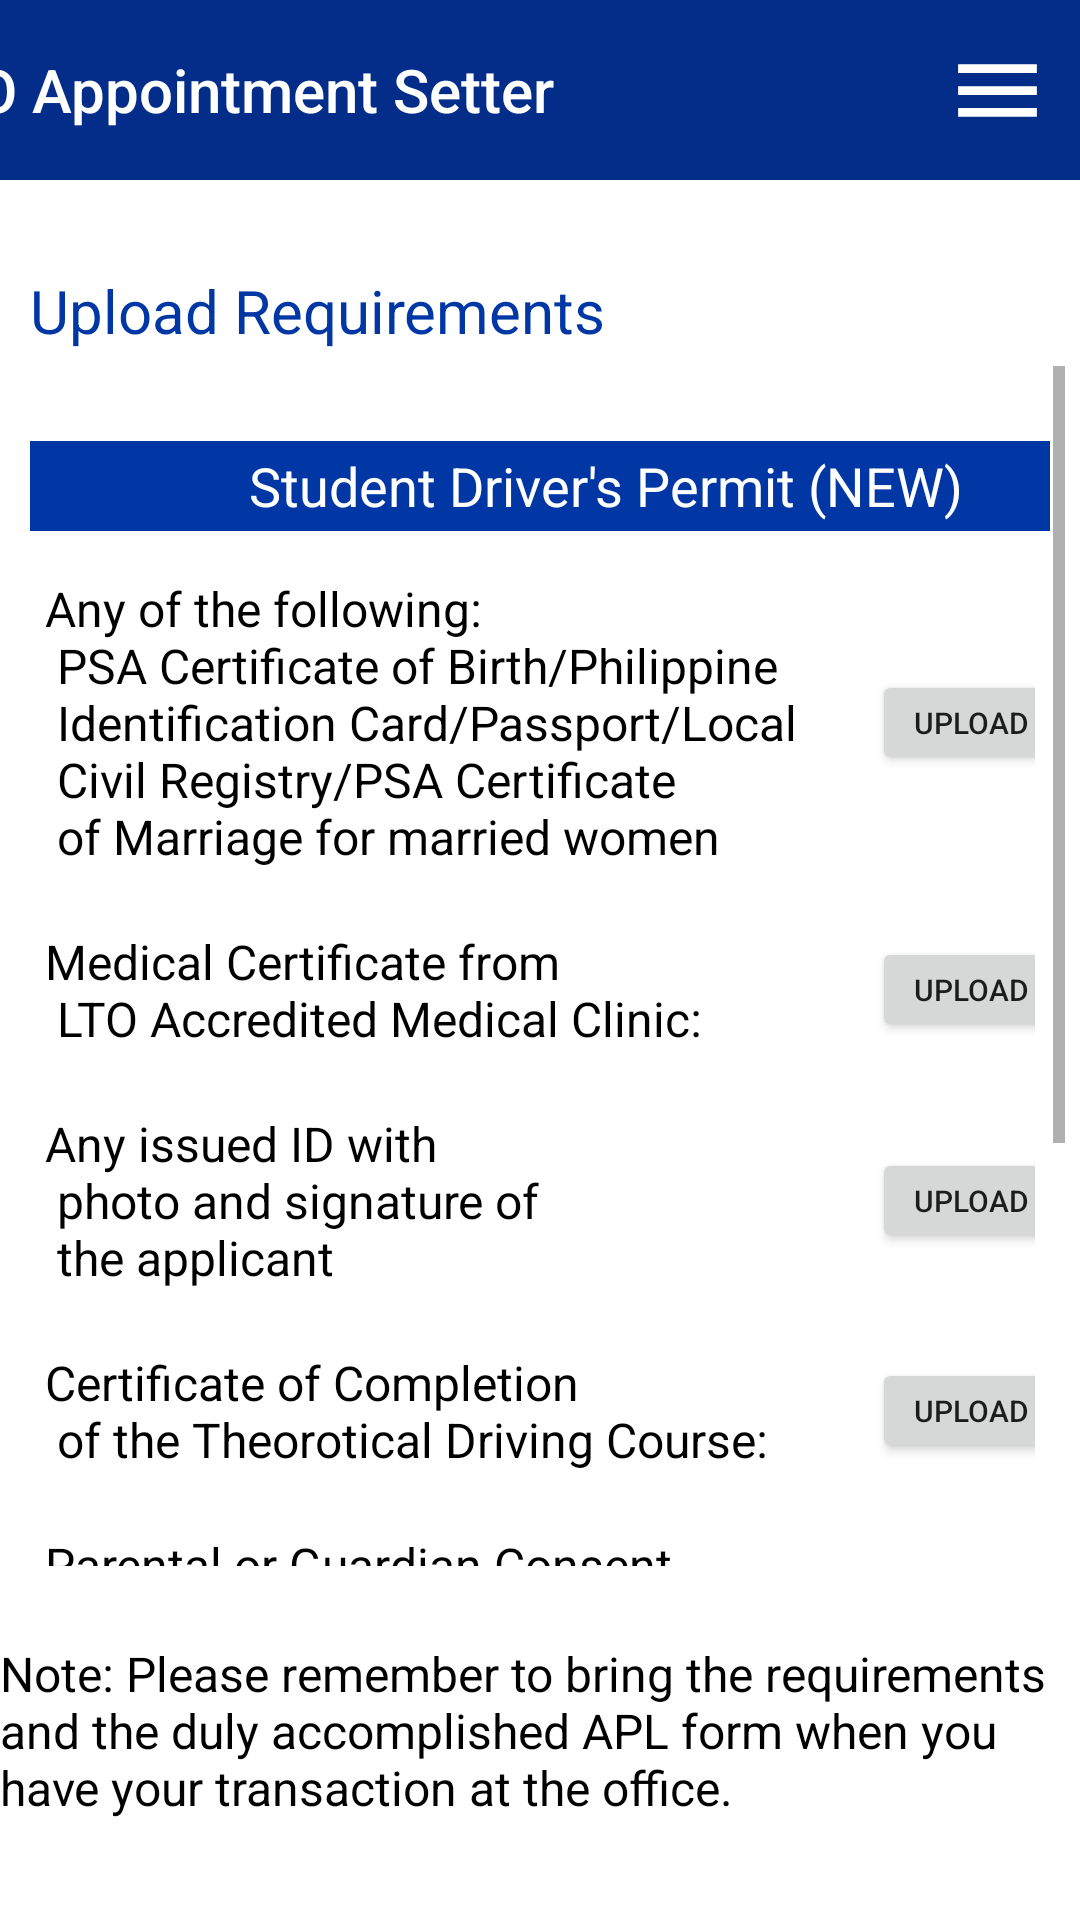

Where to tap for icons on this 1080 × 1920 app screen, as (x=x, y=y):
menu: (x=997, y=90)
